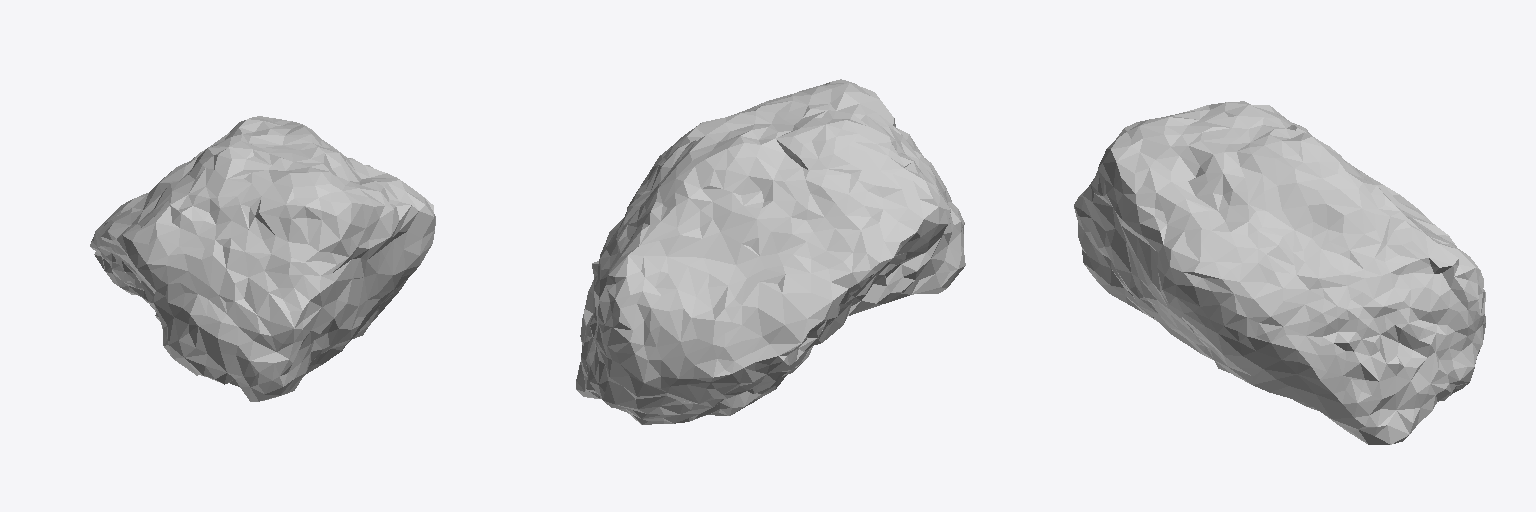
File: Rock.obj
3 renders of one model, left to right at view 1: azimuth 30°, elevation 25°; view 2: azimuth 150°, elevation 25°; view 3: azimuth 270°, elevation 25°, orthographic.
Visible parts, largest first — view 1: Rock_1; view 2: Rock_1; view 3: Rock_1.
Part boxes in pixels (x1,y1,x2,y2): Rock_1: (90, 116, 435, 401); Rock_1: (576, 79, 965, 424); Rock_1: (1074, 101, 1485, 444).
Bounding box in the file's own units: 0.6038 × 0.5034 × 0.7207.